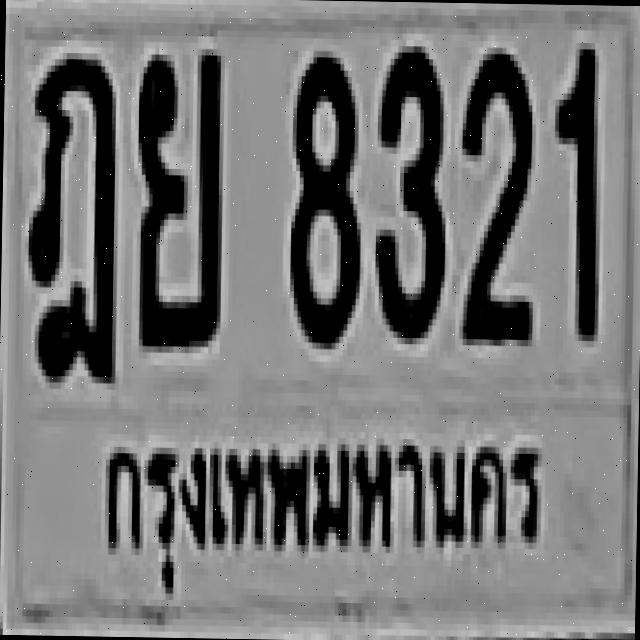1: (549, 39, 601, 338)
2: (456, 46, 531, 340)
23DorChaDa: (22, 52, 116, 376)
3: (370, 39, 445, 338)
43YorYak: (130, 44, 220, 343)
8: (284, 50, 360, 343)
Bangkok: (89, 414, 554, 616)
